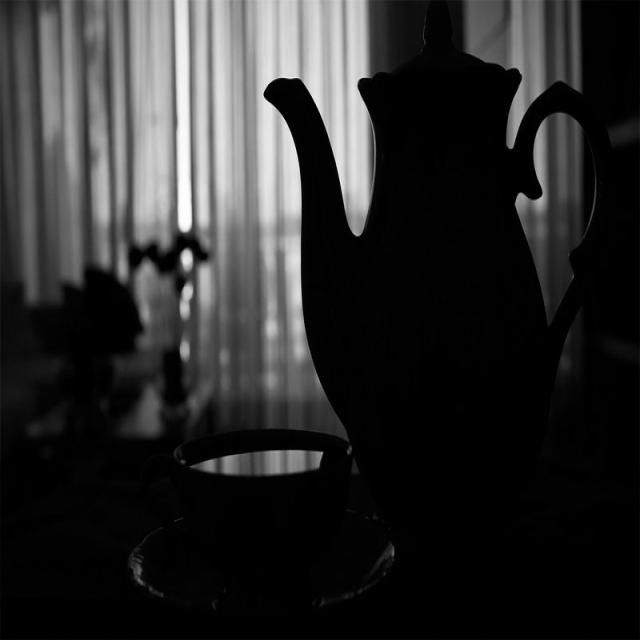Cup: (269, 23, 636, 517), (137, 440, 396, 640)
Table: (4, 426, 640, 640)
